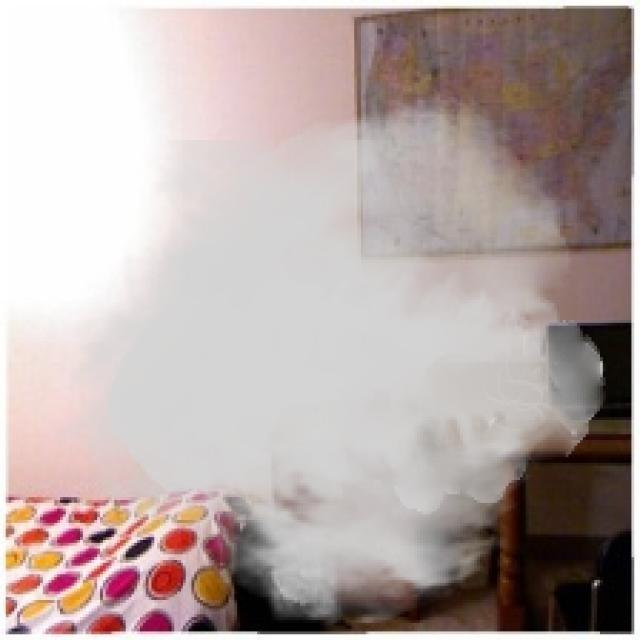Smoke: (51, 91, 606, 632)
